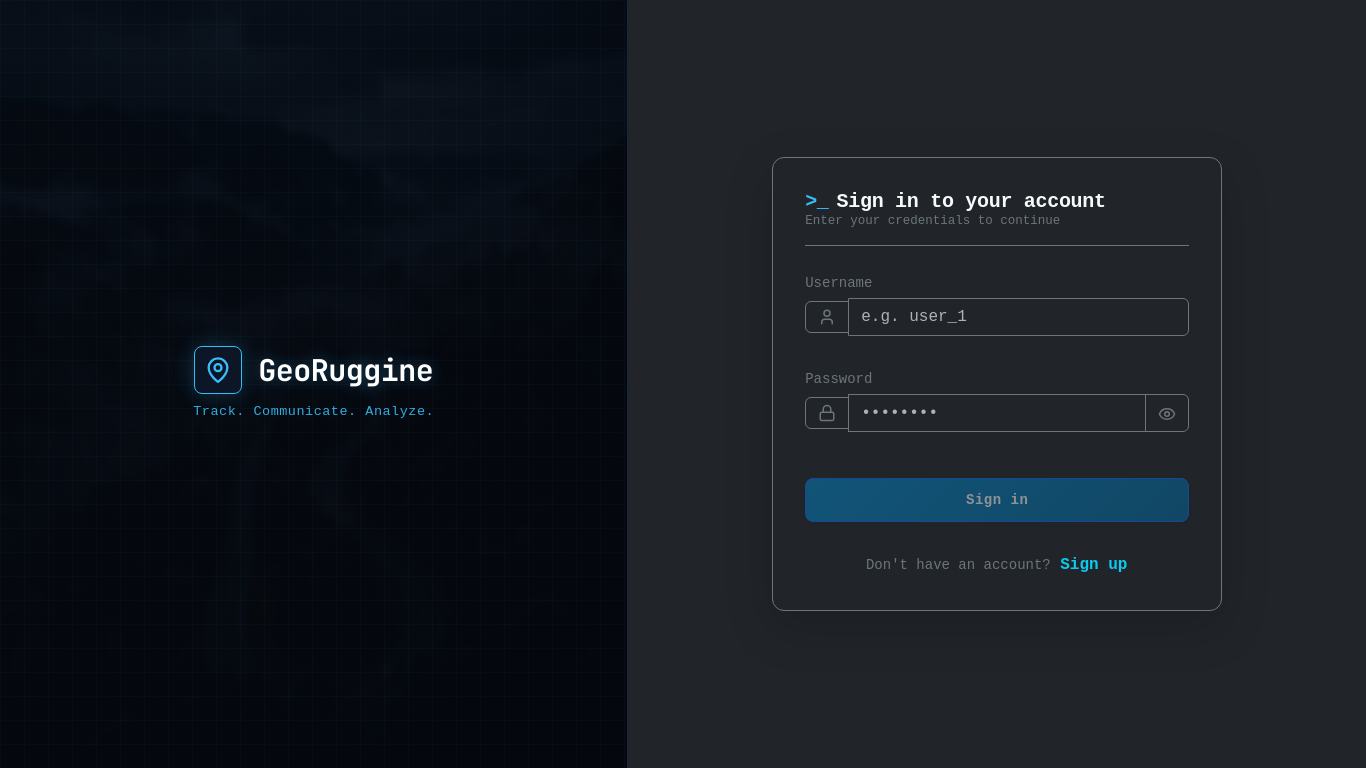
Test: App authentication flow › stays on the registration screen when the backend rejects the account
Click the button "Sign up".
click(1094, 565)  # box [1059,552,1128,578]
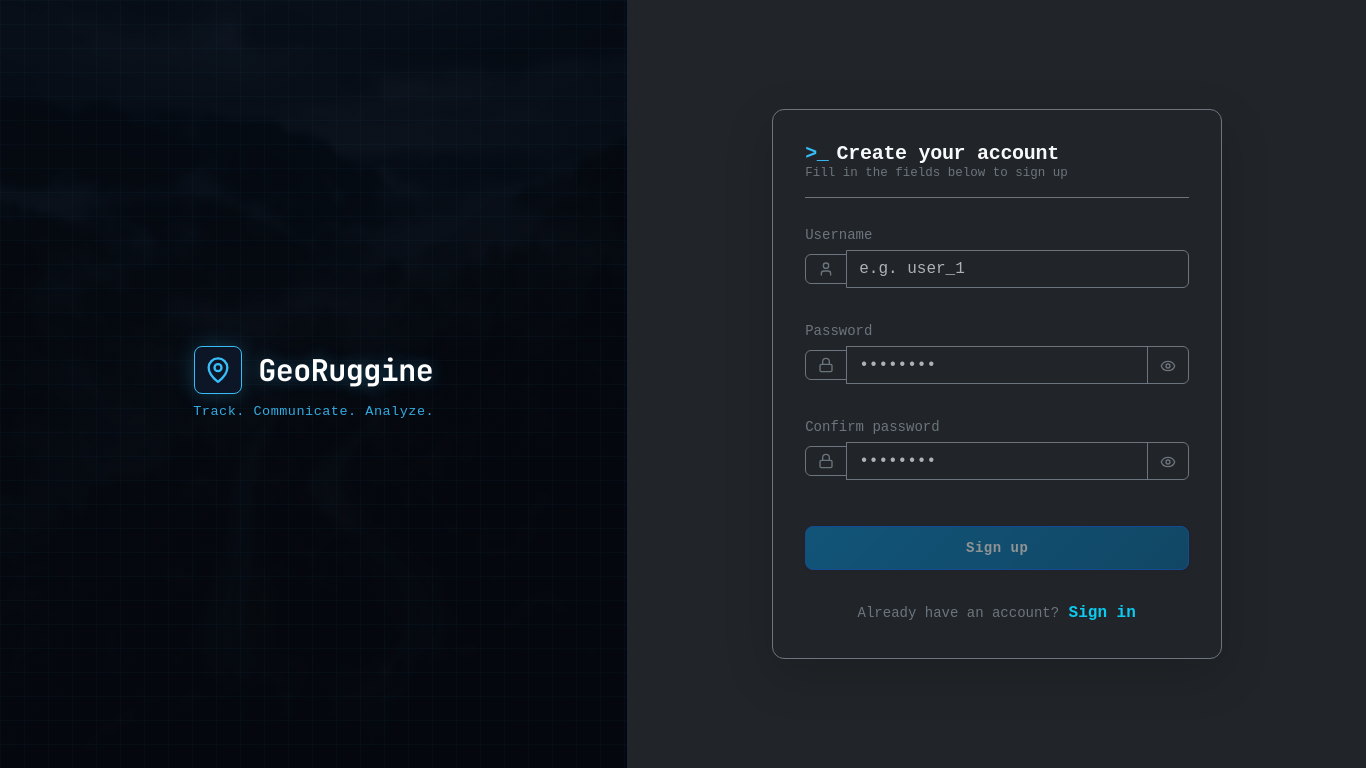
Type "alice" into the field labelled "Username".
click(1018, 269); type("alice")  # box [846,250,1189,288]
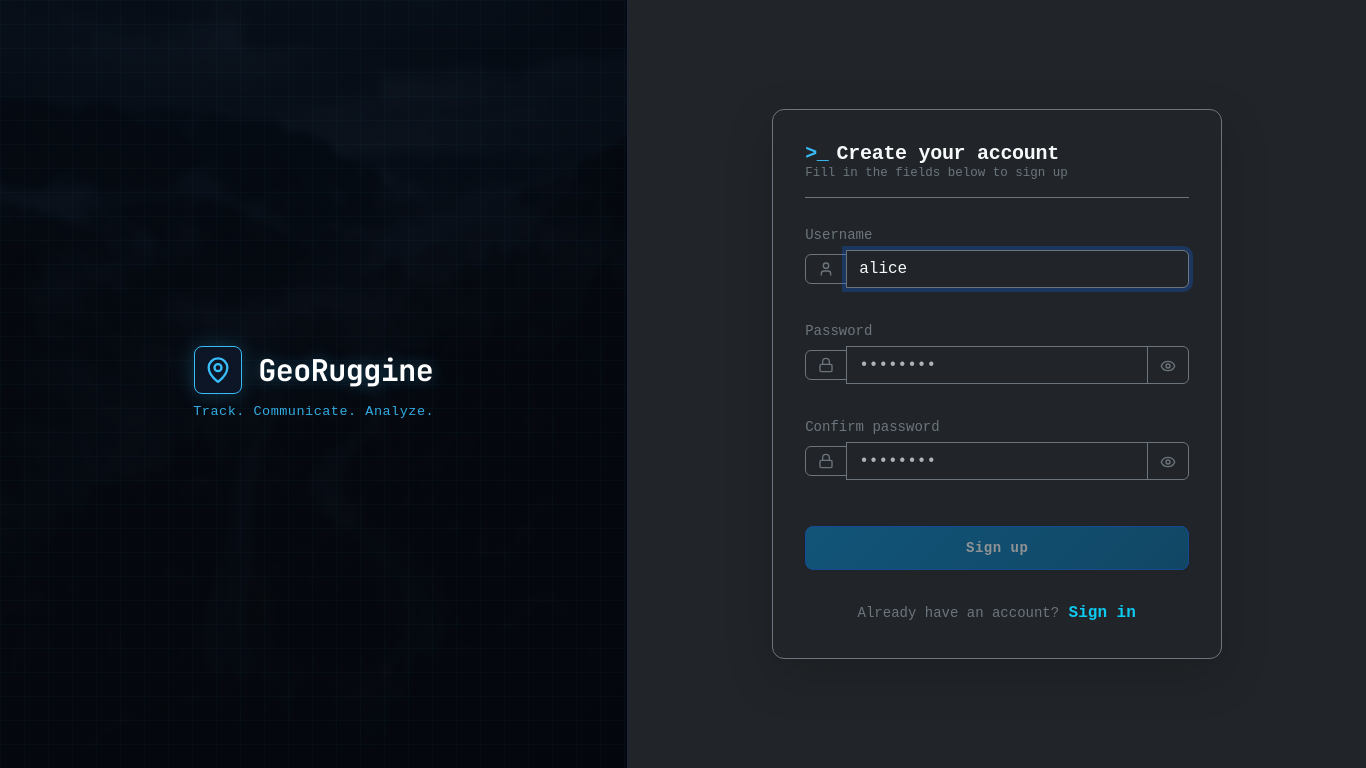
Type "secret" into the password field labelled "Password".
click(997, 365); type("secret")  # box [846,346,1148,384]
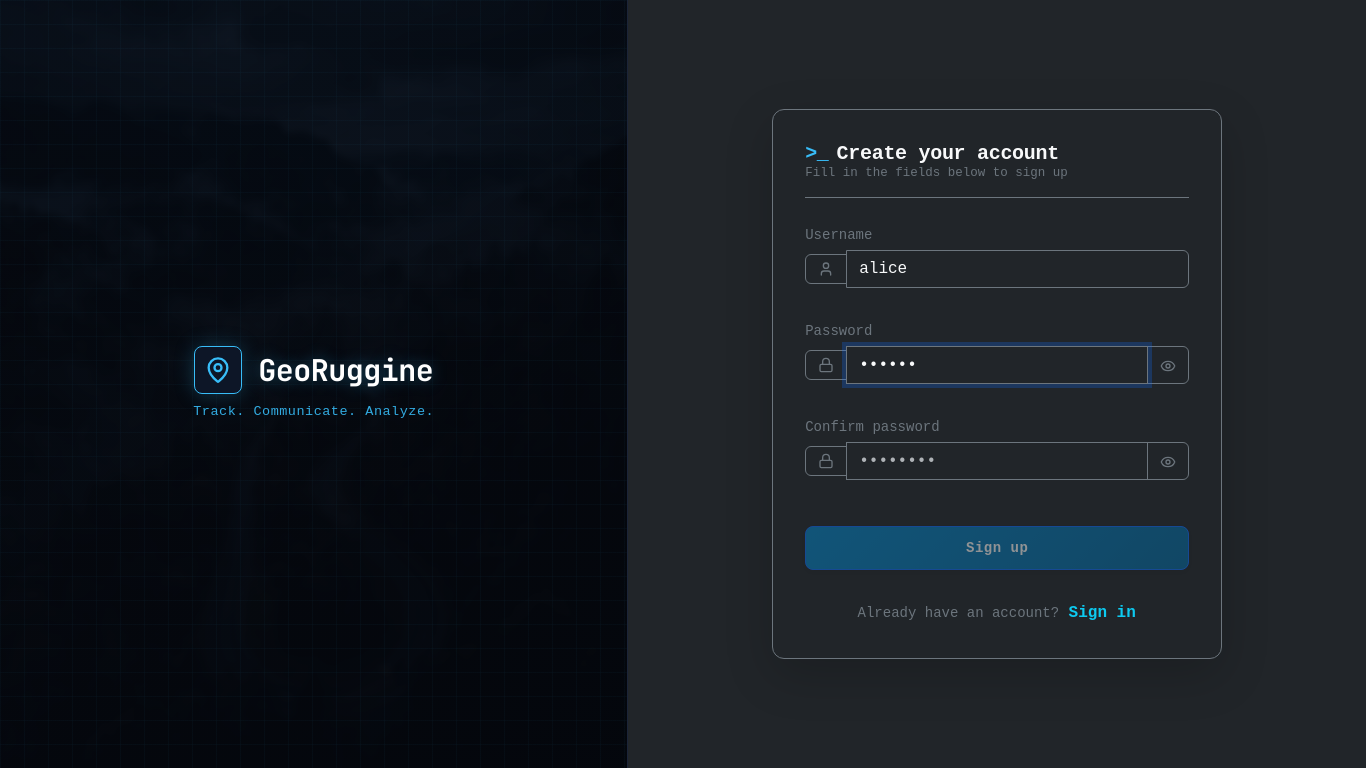
Type "secret" into the password field labelled "Confirm password".
click(997, 461); type("secret")  # box [846,442,1148,480]
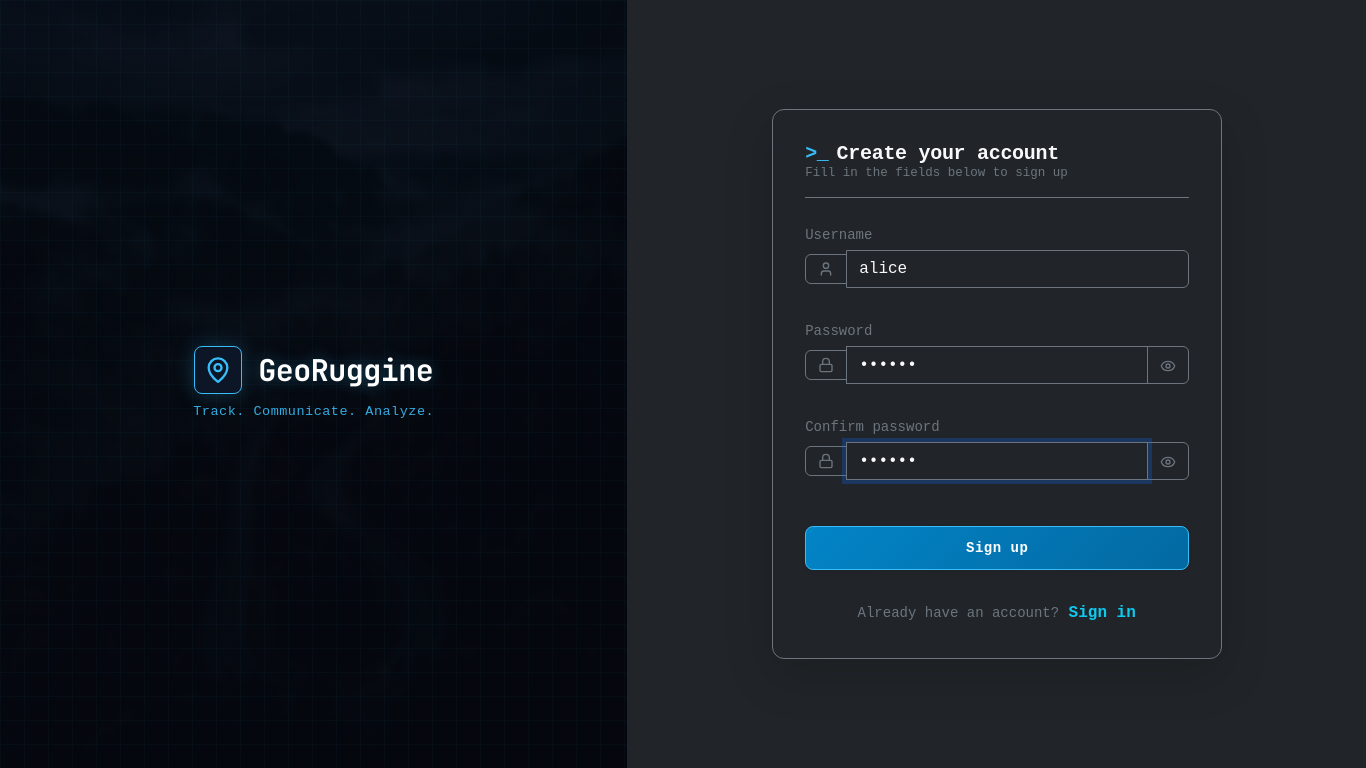
Click the button "Sign up".
click(997, 548)  # box [805,526,1189,570]
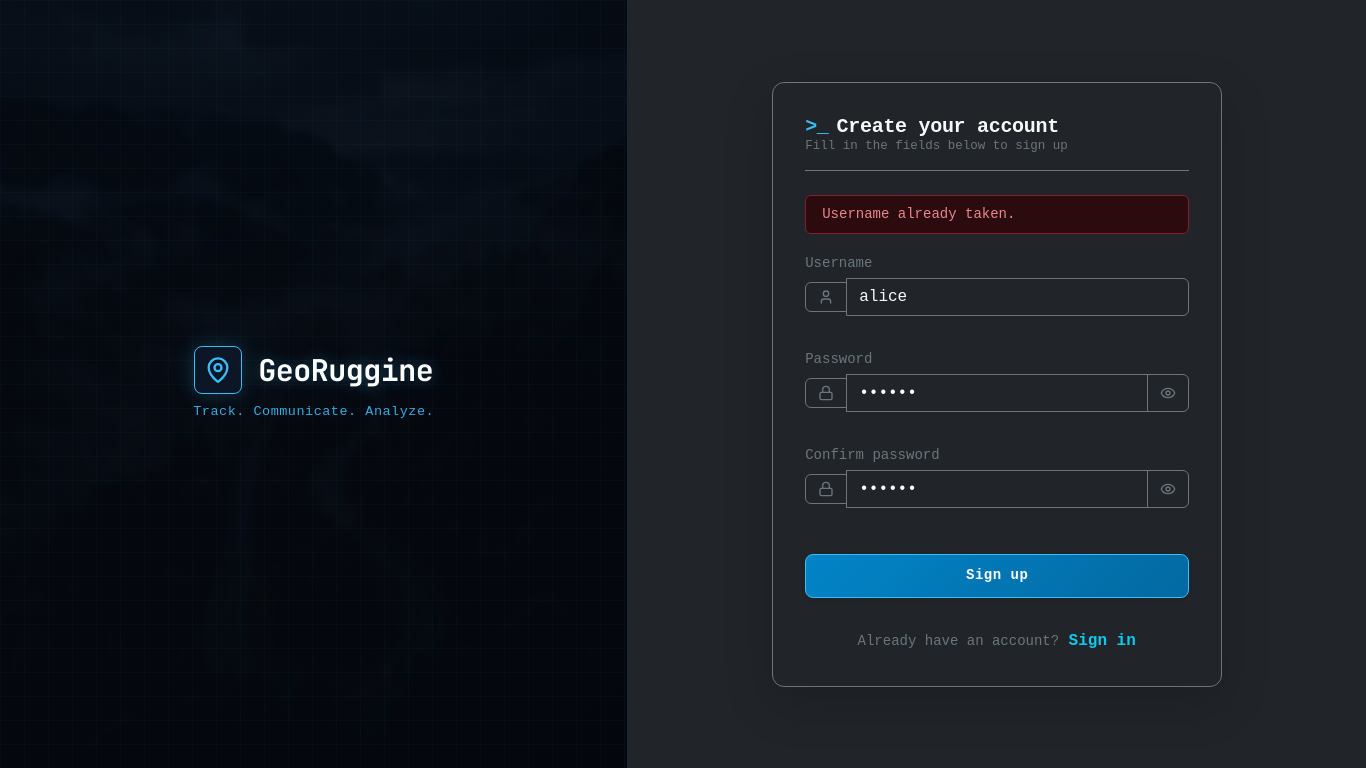
Result: the heading "Create your account" is shown at [837,114,1059,138]
Result: the text "Username already taken." is shown at [822,204,1015,224]
